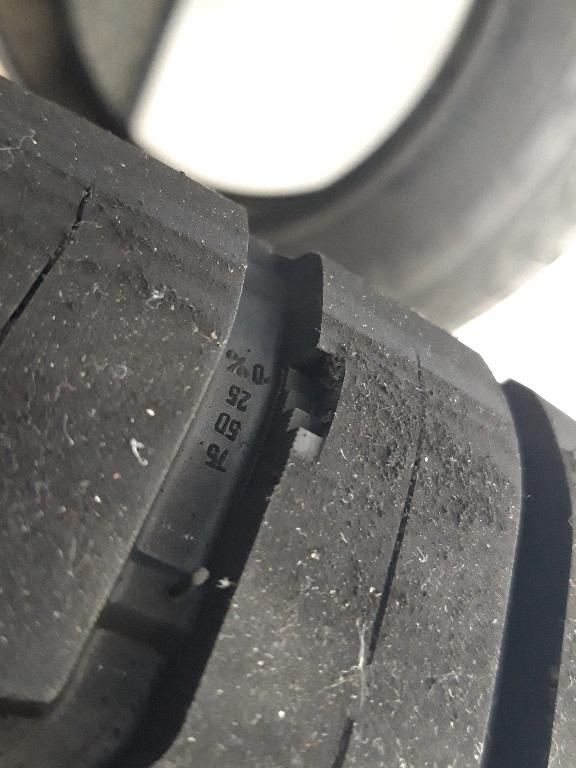temoin:75: (252, 335, 358, 474)
